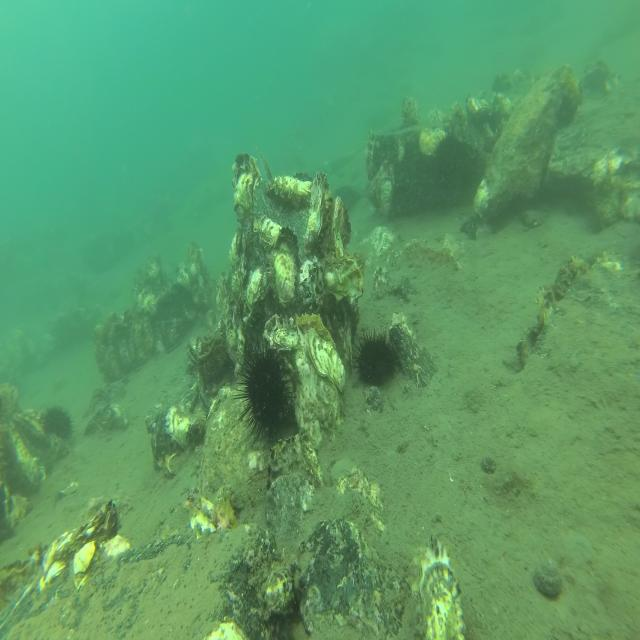echinus: (232, 331, 298, 455), (351, 326, 402, 392), (432, 129, 468, 180), (40, 404, 76, 440), (200, 350, 226, 387), (237, 301, 245, 318)
